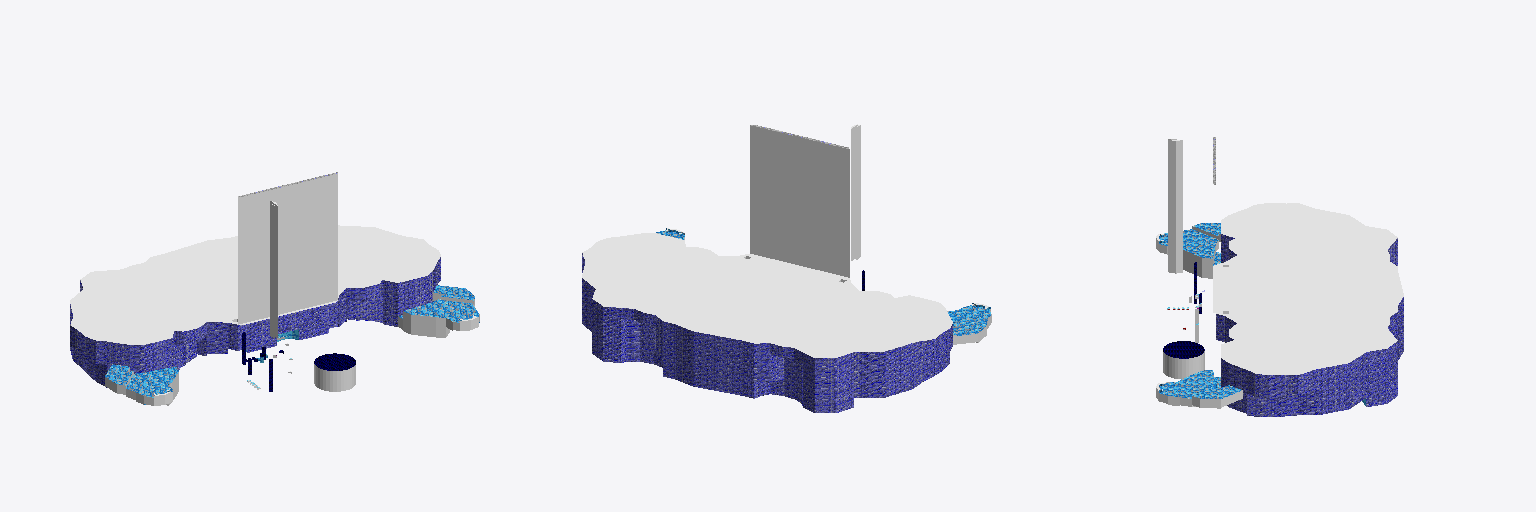
3 renders of one model, left to right at view 1: azimuth 30°, elevation 25°; view 2: azimuth 150°, elevation 25°; view 3: azimuth 270°, elevation 25°, orthographic.
Parts seen in each view (by area): view 1: MAPF3; view 2: MAPF3; view 3: MAPF3.
Boxes of the visible parts, x1,y1,x2,y2 form: MAPF3: [70, 172, 479, 405]; MAPF3: [582, 124, 991, 412]; MAPF3: [1156, 137, 1403, 416].
Bounding box in the file's own units: 8768 × 4608 × 5216.
Materials: 35 (23 with a texture image).